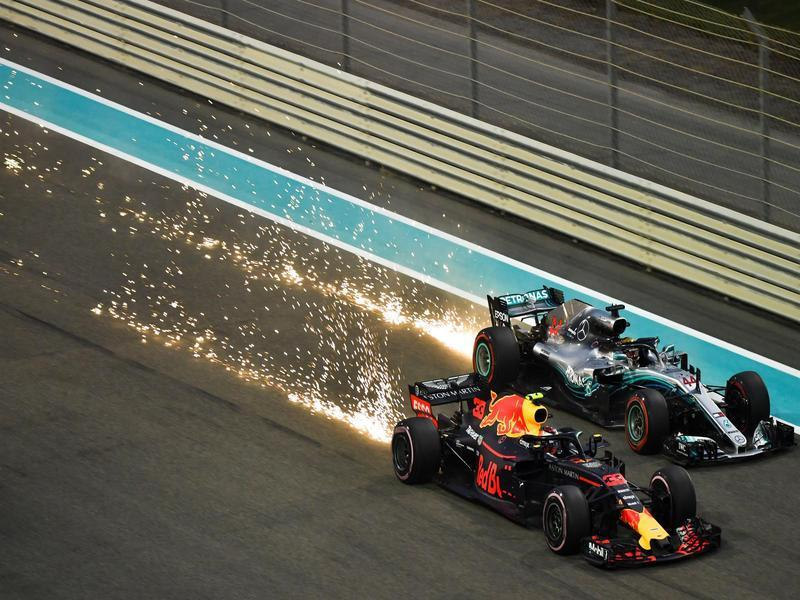f1: (356, 363, 739, 575), (467, 278, 800, 465)
